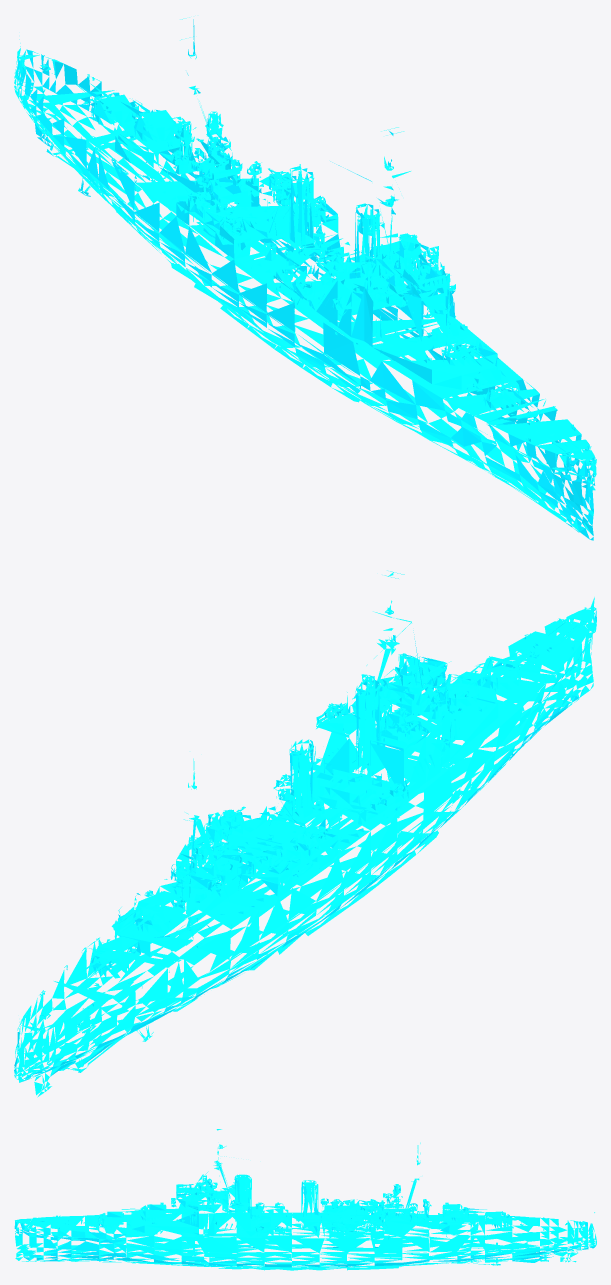
Rendered from London.glb.
3 renders of one model, top to bottom at view 1: azimuth 30°, elevation 25°; view 2: azimuth 150°, elevation 25°; view 3: azimuth 270°, elevation 25°, orthographic. The views are drawn at different scales.
Size of the model in its own units: 1.47 by 3.24 by 12.79.
